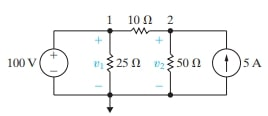current: (209, 46, 244, 80)
dc: (38, 47, 71, 79)
resistor: (128, 26, 153, 36), (105, 51, 115, 74), (166, 51, 176, 73)
